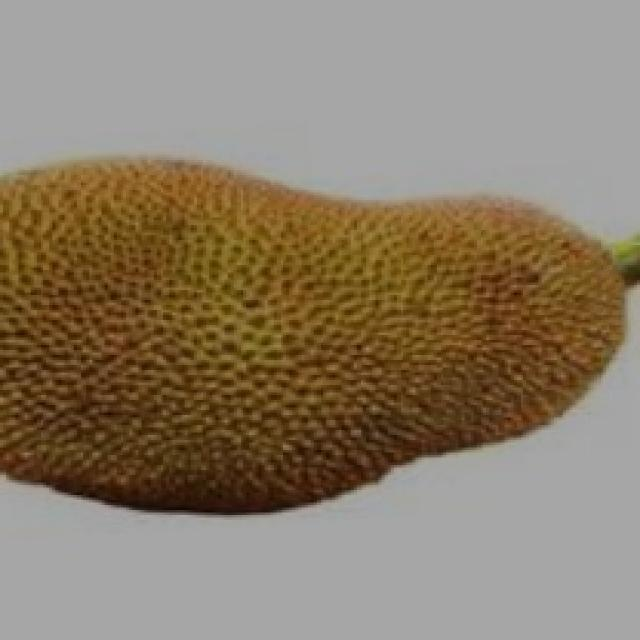Fruit: (0, 130, 406, 548), (255, 158, 640, 512)
